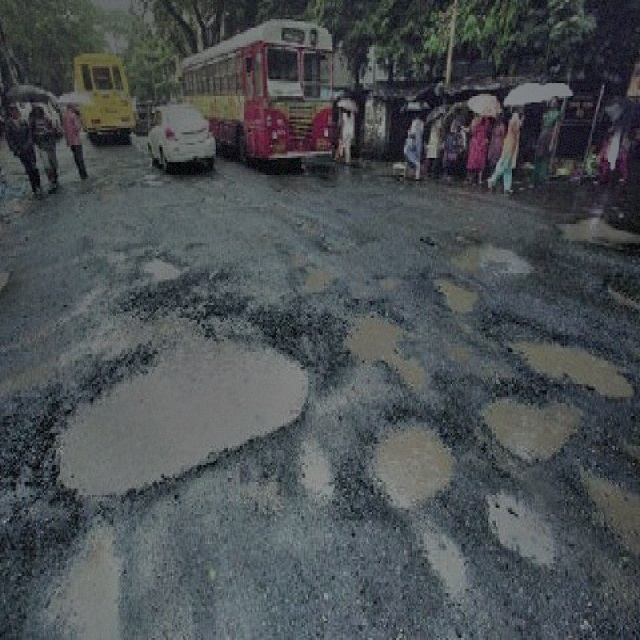pothole: (48, 326, 312, 497), (487, 309, 637, 401), (45, 512, 127, 638), (337, 298, 431, 392), (364, 412, 455, 503), (478, 386, 582, 463), (480, 482, 557, 574), (574, 465, 638, 550), (416, 514, 471, 602), (450, 232, 534, 278), (295, 433, 336, 504), (428, 267, 483, 318), (284, 248, 329, 292), (137, 254, 187, 279)
